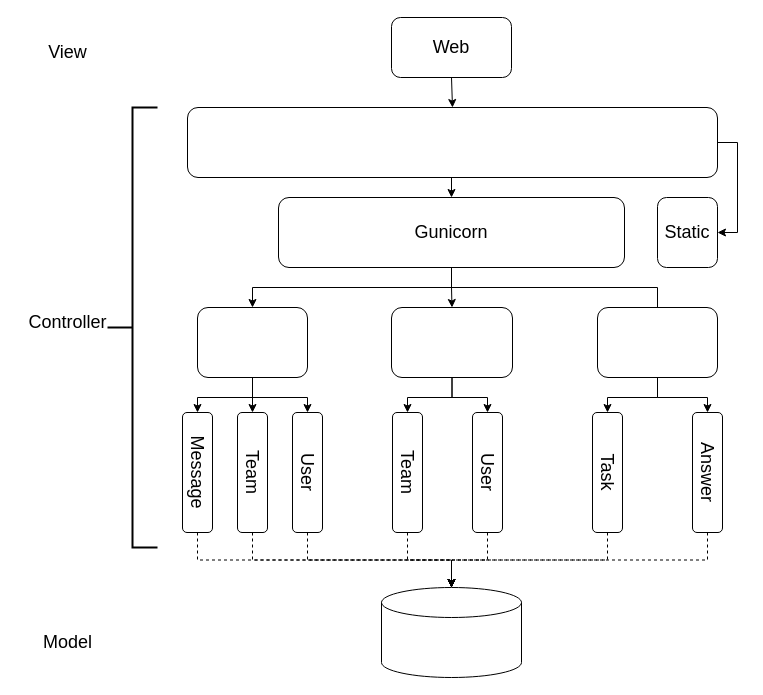
Some shapes in this 763 by 695 pixel diagram are drawn without their labels. Here are the shapes that lost their labels. From the top down, the box of each, then its label:
(186, 106, 718, 178): Nginx
(196, 306, 308, 378): Common
(390, 306, 512, 378): Rank
(596, 306, 718, 378): Tasks
(380, 586, 522, 678): MySQL
